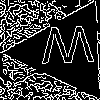W: (40, 26, 96, 73)
